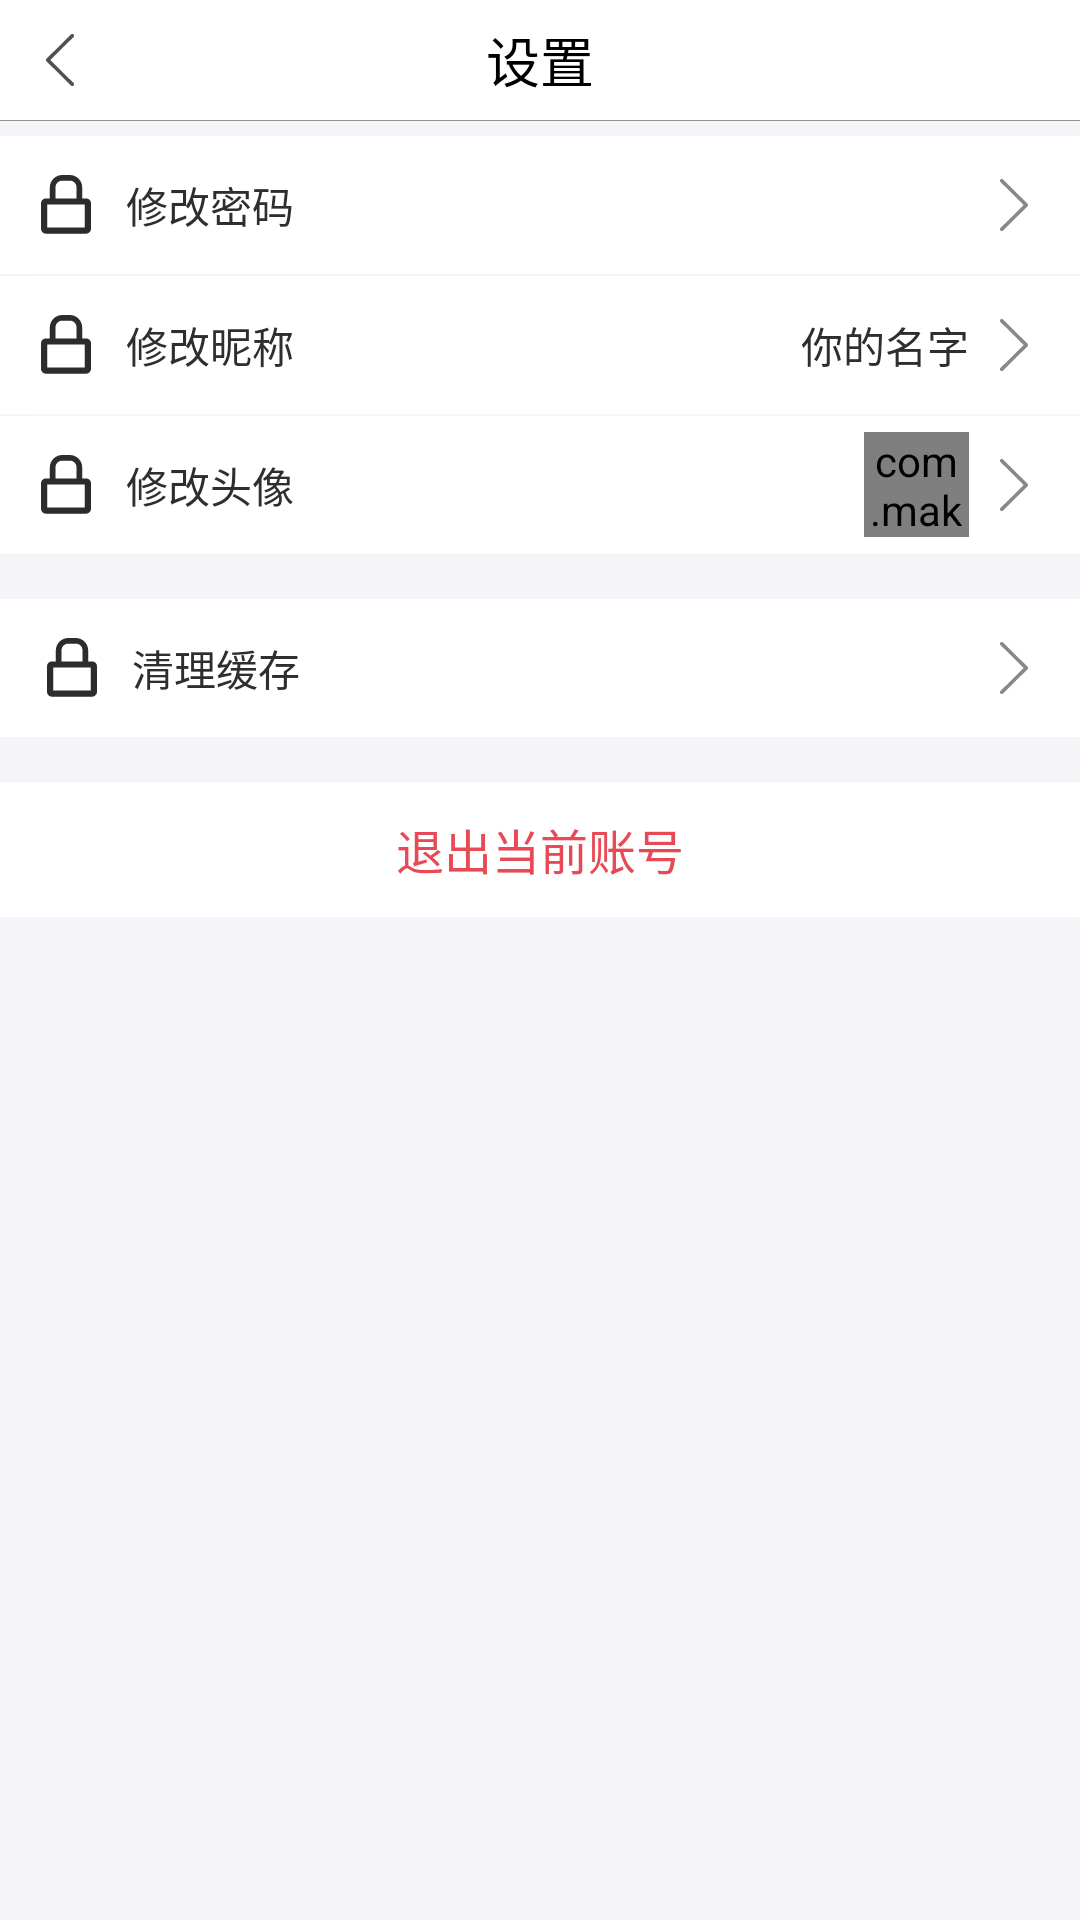

Named icons in this screenshot (1080×1920) and their centers, (x=x, y=y):
right arrow: (x=1014, y=205), (x=1014, y=345), (x=1014, y=485), (x=1014, y=668)
settings secret: (x=66, y=204), (x=66, y=344), (x=66, y=484), (x=72, y=667)
